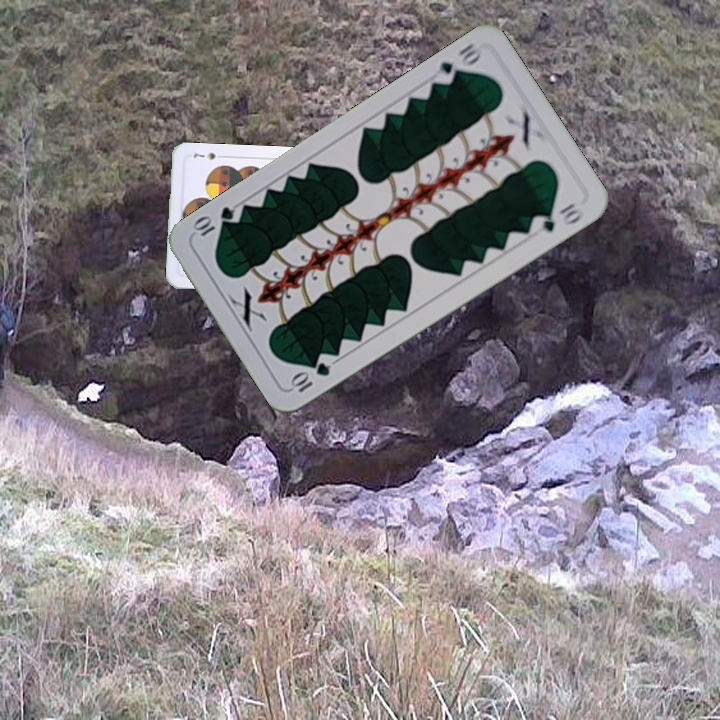G10: (429, 39, 485, 88), (286, 358, 333, 395)
